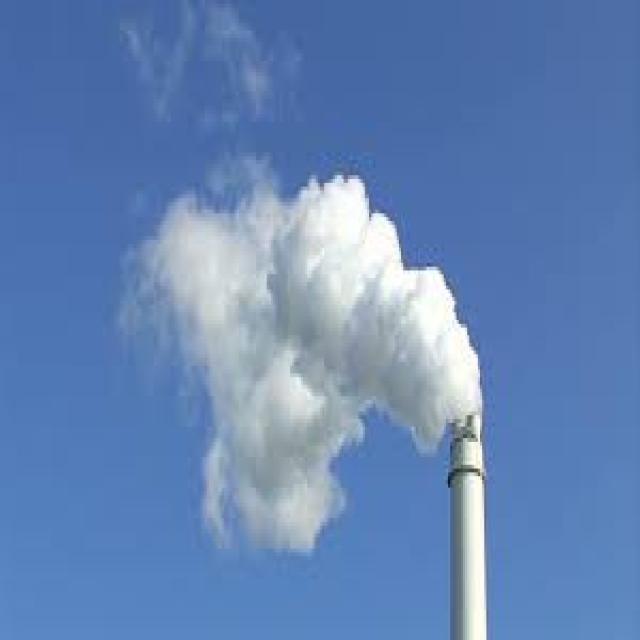Smoke: (120, 0, 483, 560)
